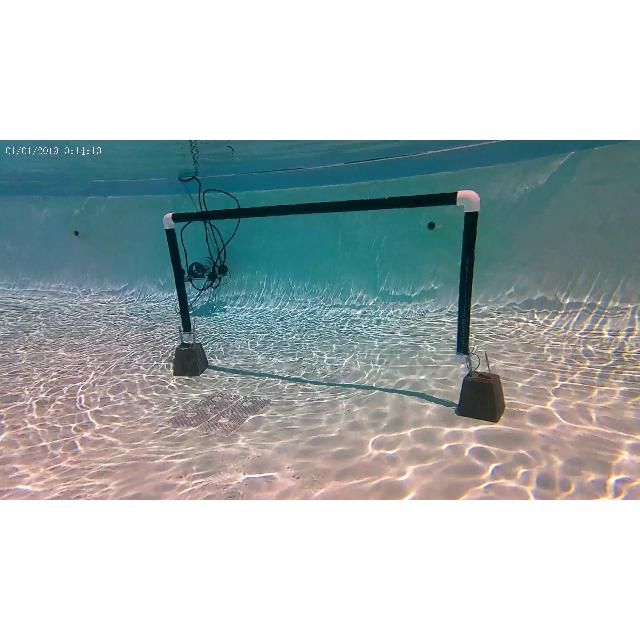prequal gate: (162, 189, 480, 357)
prequal gate leg l: (157, 210, 211, 376)
prequal gate leg r: (452, 186, 506, 424)
